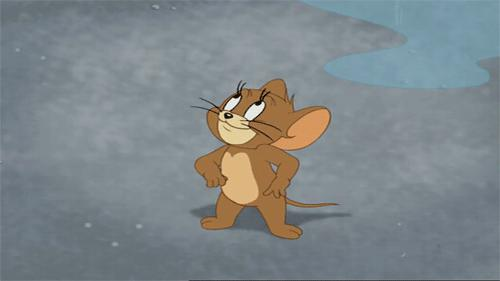jerry: (193, 78, 344, 241)
